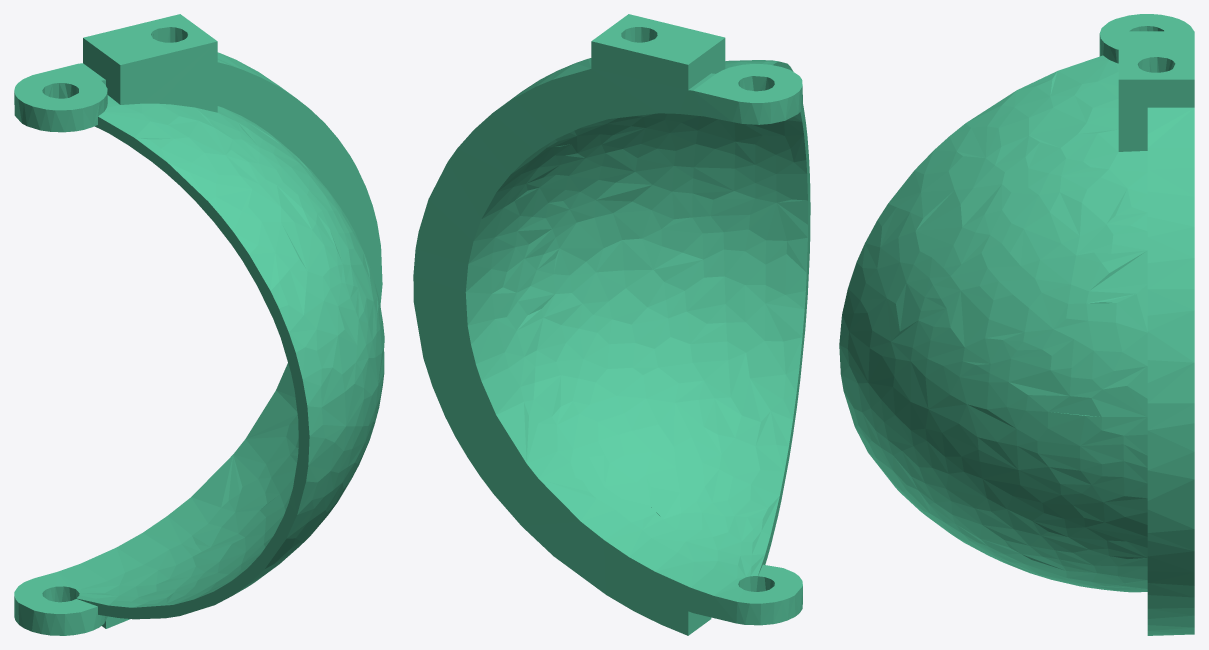
The model's file is i02_head_right_top_eyelid_visual.obj.
3 views of the same model, side by side, from view 1: azimuth 30°, elevation 25°; view 2: azimuth 150°, elevation 25°; view 3: azimuth 270°, elevation 25° (orthographic). The views are drawn at different scales.
Parts seen in each view (by area): view 1: i02_head_right_top_eyelid_visual.001; view 2: i02_head_right_top_eyelid_visual.001; view 3: i02_head_right_top_eyelid_visual.001.
Part boxes in pixels (x1,y1,x2,y2): i02_head_right_top_eyelid_visual.001: [14, 14, 384, 635]; i02_head_right_top_eyelid_visual.001: [413, 14, 810, 635]; i02_head_right_top_eyelid_visual.001: [839, 14, 1194, 635].
Bounding box in the file's own units: 0.2107 × 0.3191 × 0.1761.
